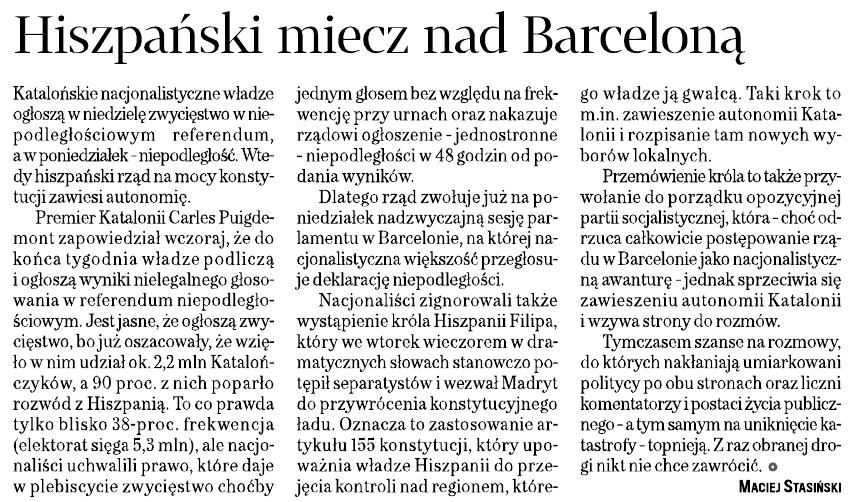author: (734, 476, 846, 499)
body: (286, 80, 567, 502), (6, 79, 280, 499), (570, 79, 851, 476)
title: (12, 7, 760, 73)
